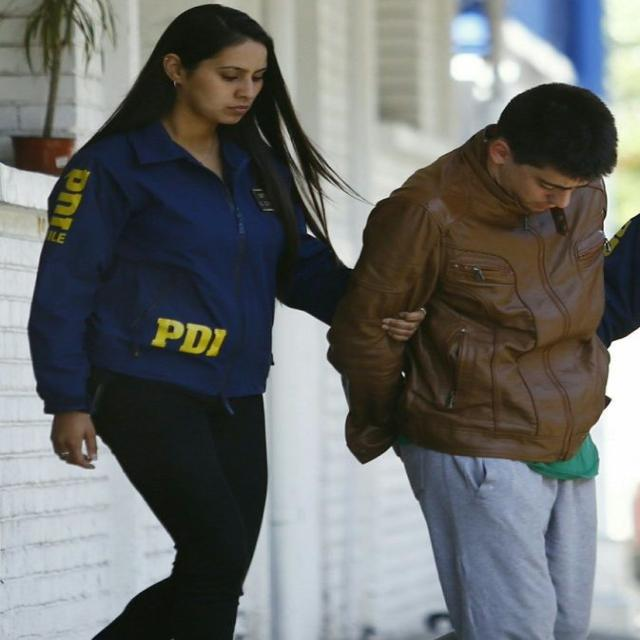9_cabeza_baja: (480, 81, 618, 214)
